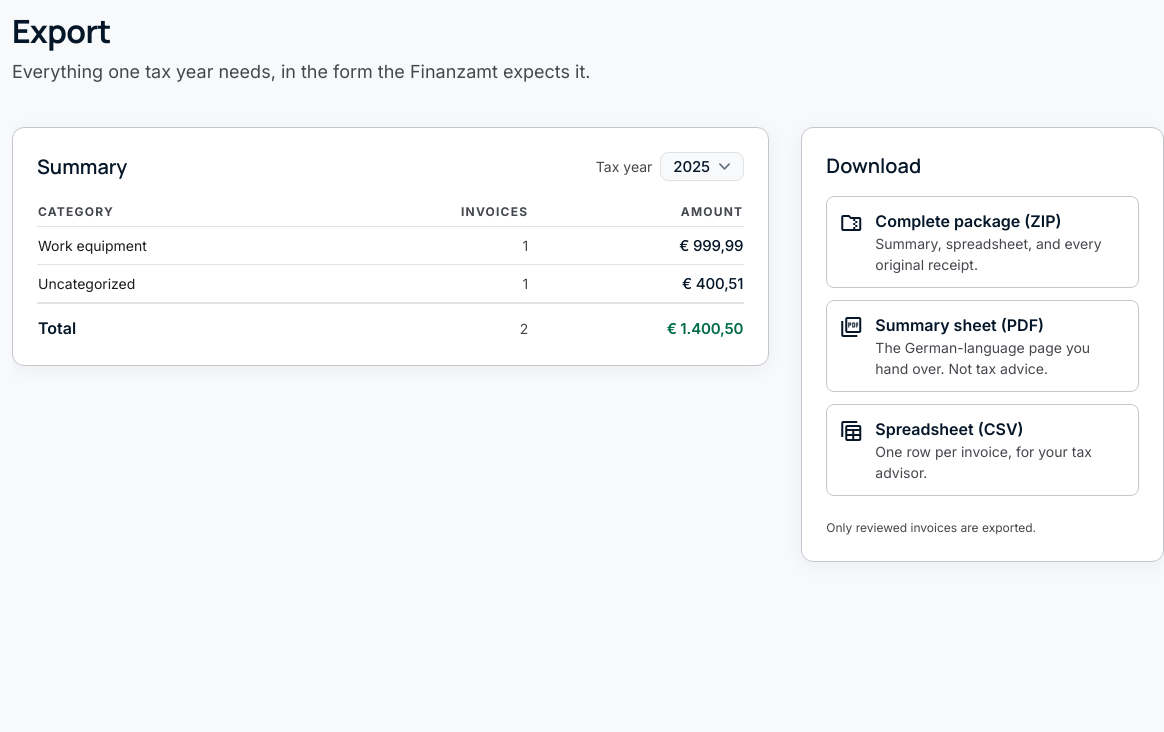
Test: Export page › reloads the summary when another tax year is picked
Expected: the text "€ 1.400,50" is shown, top-left (529, 303), bottom-right (744, 341)
Select "2024" in the dropdown labelled "Tax year" at (702, 167), box top-left (660, 152), bottom-right (744, 181)
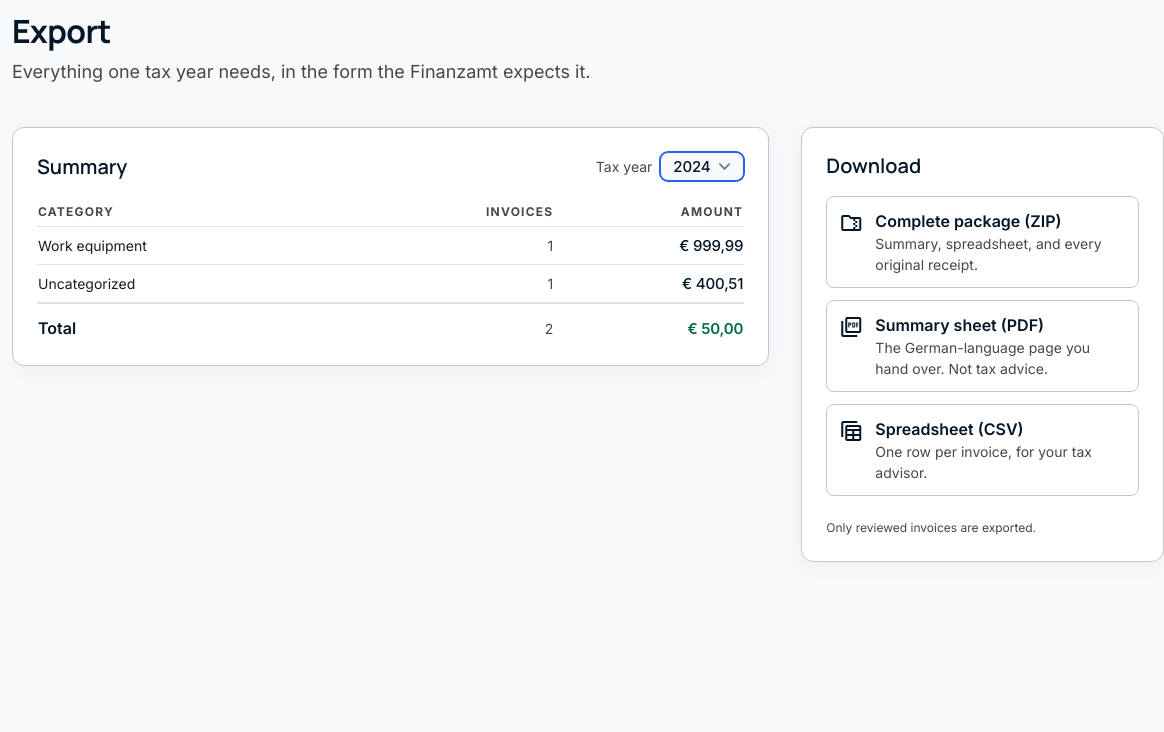
Result: the text "€ 50,00" is shown at top-left (554, 303), bottom-right (744, 341)
